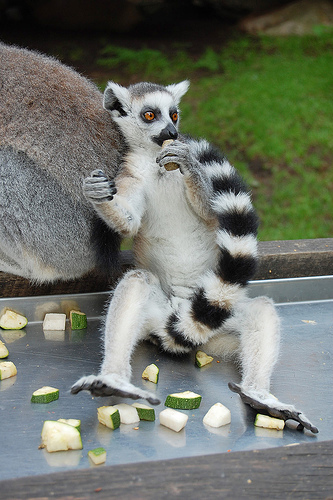cat: (68, 80, 317, 435), (0, 42, 127, 286)
